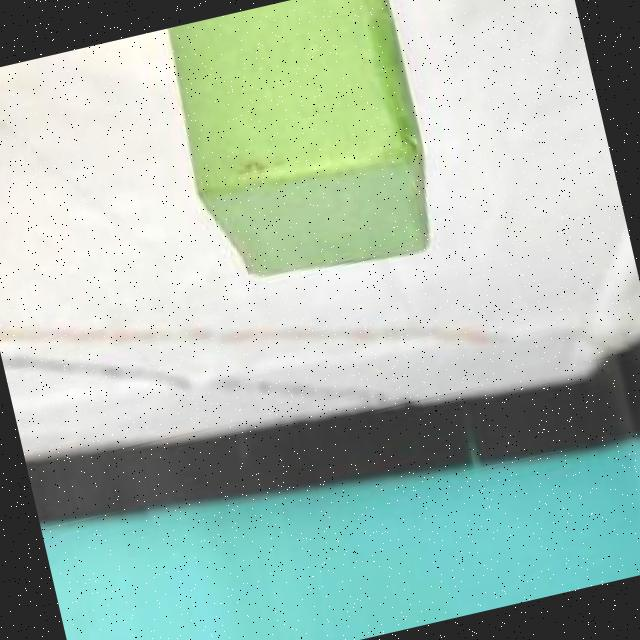greenbox: (152, 0, 449, 305)
